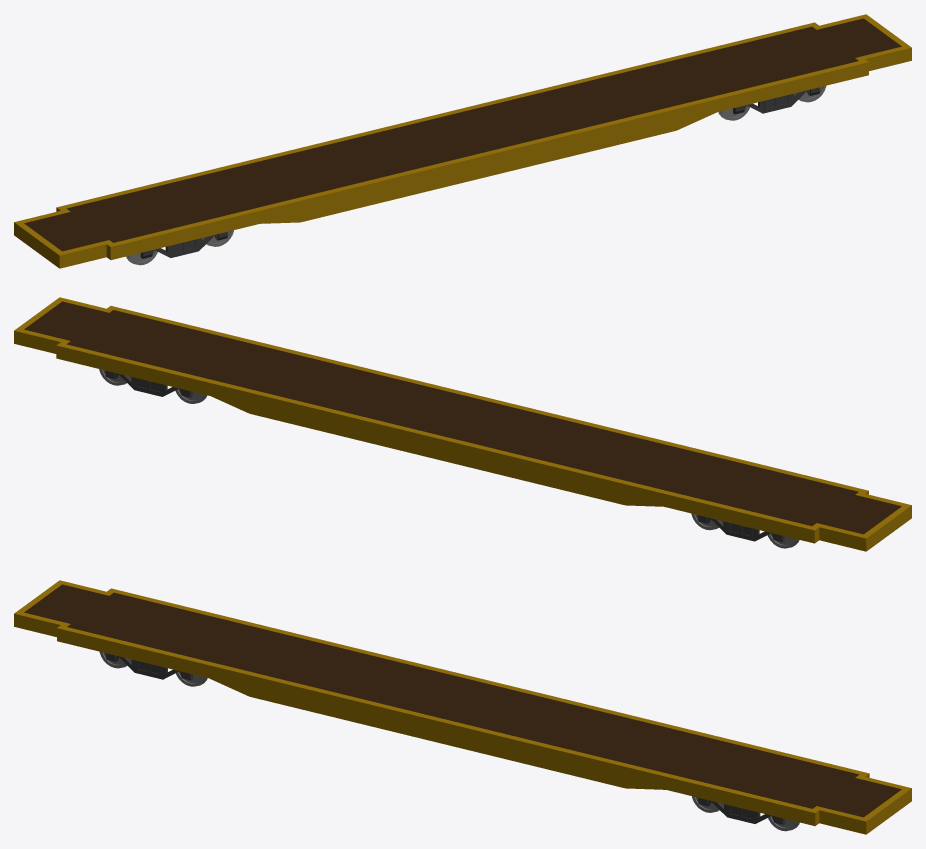
The model's file is flat_car.obj.
The picture shows the model from 3 angles, top to bottom: view 1: azimuth 30°, elevation 25°; view 2: azimuth 150°, elevation 25°; view 3: azimuth 330°, elevation 25°; orthographic projection.
Parts seen in each view (by area): view 1: group_13.002_ID482, group_13_ID468; view 2: group_13.002_ID482, group_13_ID468; view 3: group_13.002_ID482, group_13_ID468.
Boxes of the visible parts, bbox=[...] form: group_13.002_ID482: bbox=[24, 18, 901, 251]; group_13_ID468: bbox=[14, 14, 911, 268]; group_13.002_ID482: bbox=[24, 301, 901, 534]; group_13_ID468: bbox=[14, 297, 911, 551]; group_13.002_ID482: bbox=[24, 584, 901, 817]; group_13_ID468: bbox=[14, 580, 911, 834].
Bounding box in the file's own units: 27.64 × 1.2 × 3.05.
